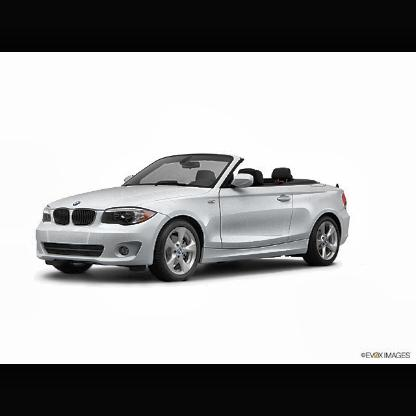BMW 1 Series Convertible 2012: (33, 151, 352, 283)
